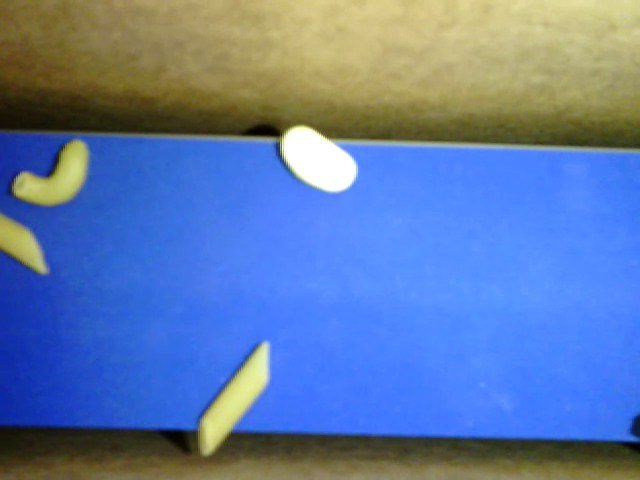elbow: (11, 138, 88, 206)
penne: (196, 338, 269, 458), (1, 210, 51, 275)
